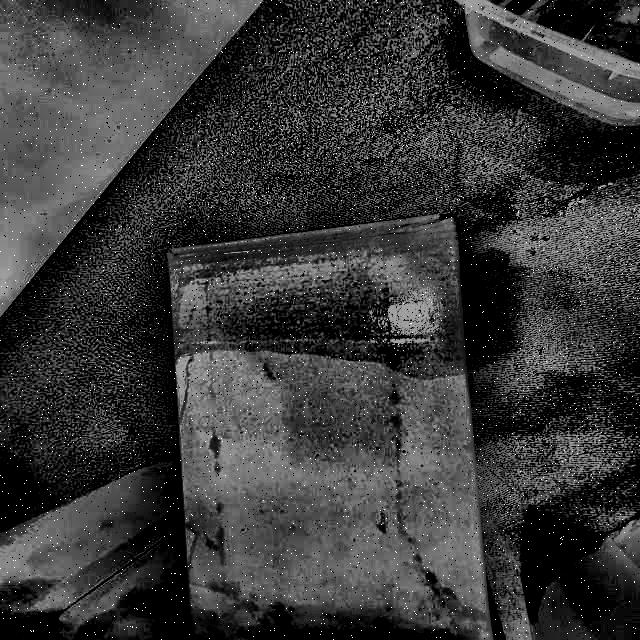box: (144, 206, 526, 638)
wet: (150, 203, 480, 385)
